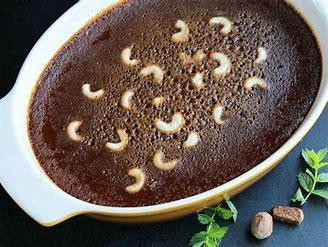Watalappam: (37, 6, 304, 247)
